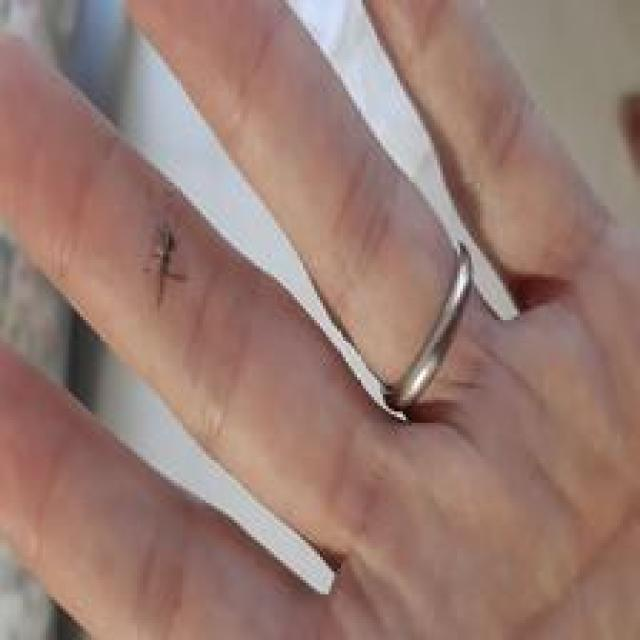Aedes albopictus: (143, 222, 188, 307)
